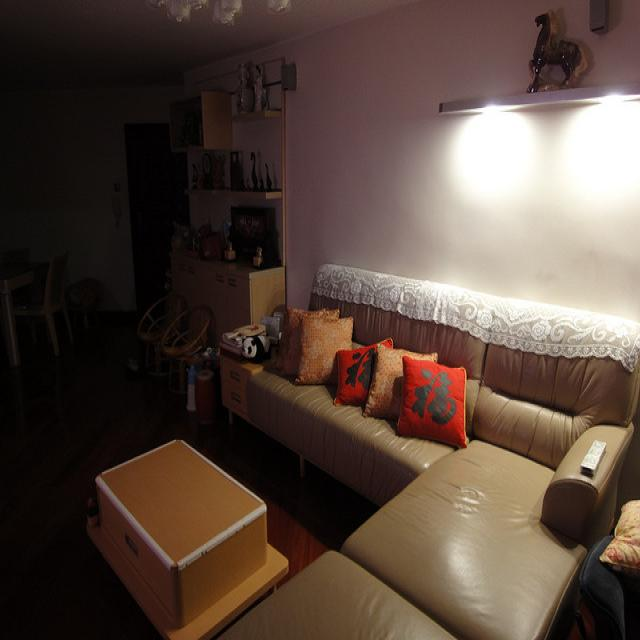Table: (85, 439, 273, 616), (0, 235, 62, 379)
chair: (241, 255, 640, 570), (122, 282, 182, 389), (42, 243, 83, 367), (178, 295, 217, 380)
